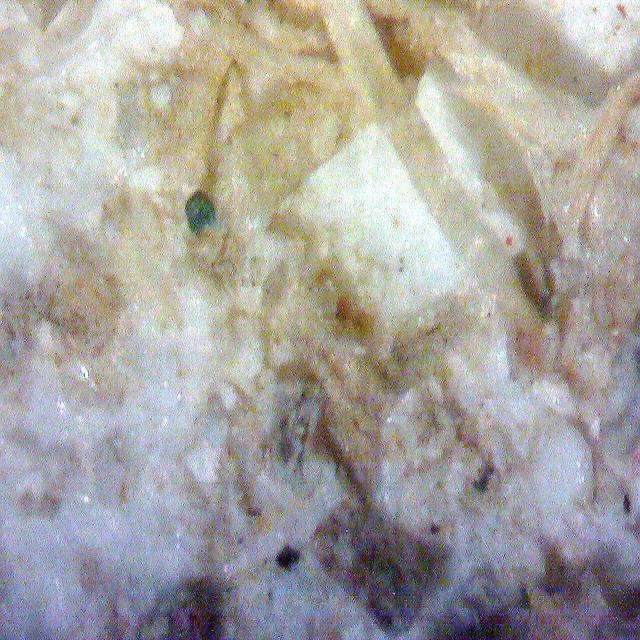microplastic: (185, 186, 217, 236)
